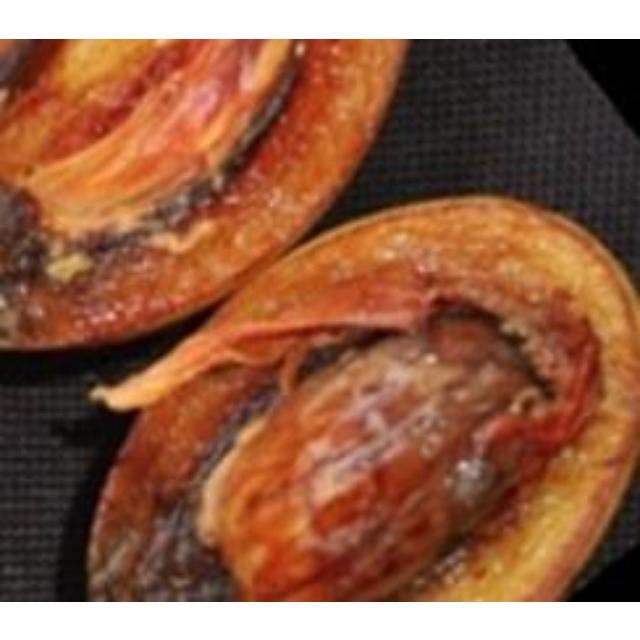damaged: (79, 193, 637, 599), (0, 38, 412, 355)
